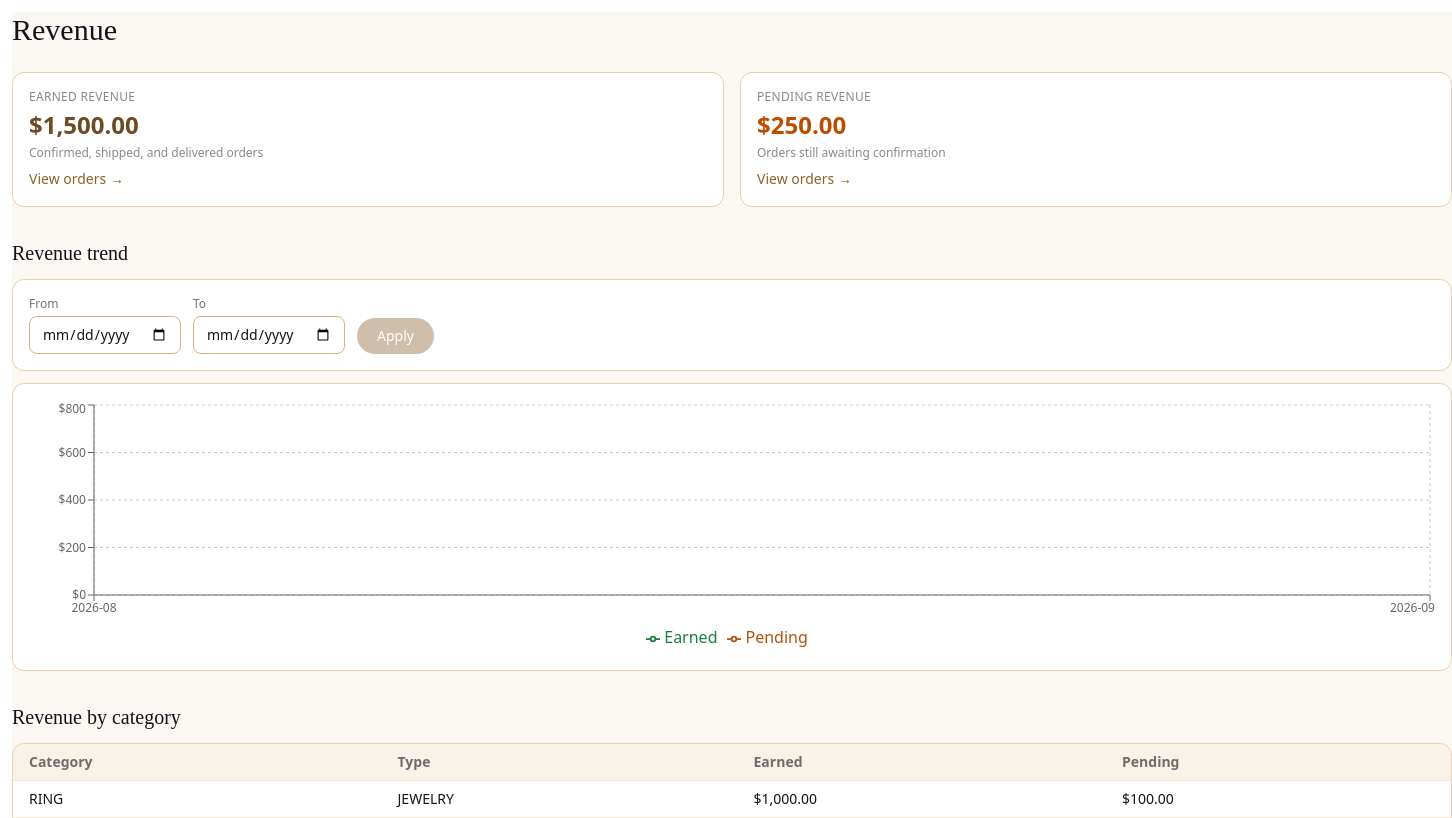
AdminRevenue › rejects an end date before the start date client-side, without fetching
The width and height of the screenshot is (1452, 818).
Expected: the text "Earned revenue" is shown, [29,88,135,105]
Step 1. Type "2024-03-31" into the date field named "from date" → [105, 335], box [29,316,181,354]
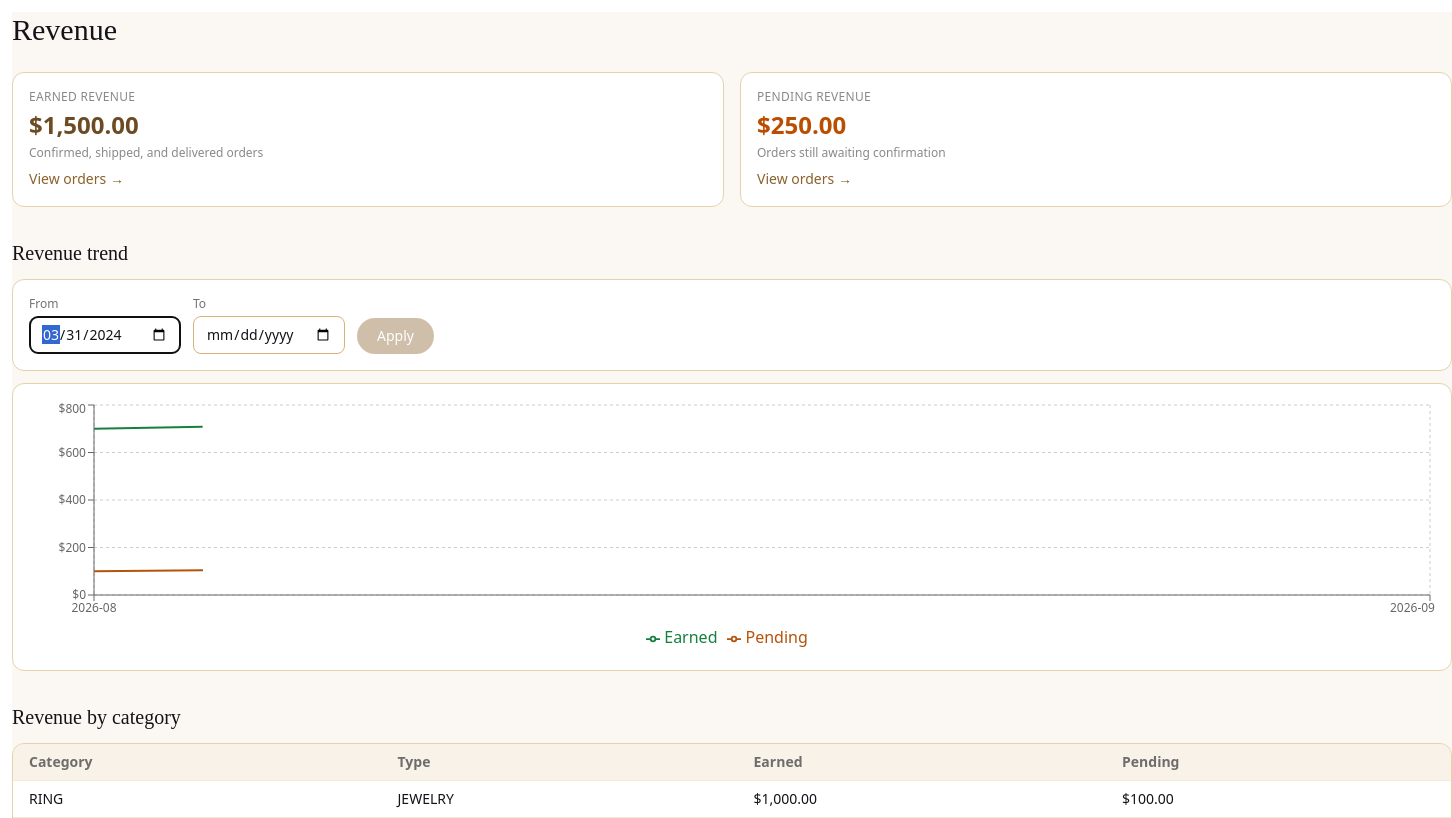
Step 2. Type "2024-03-01" into the date field named "to date" → [269, 335], box [193,316,345,354]
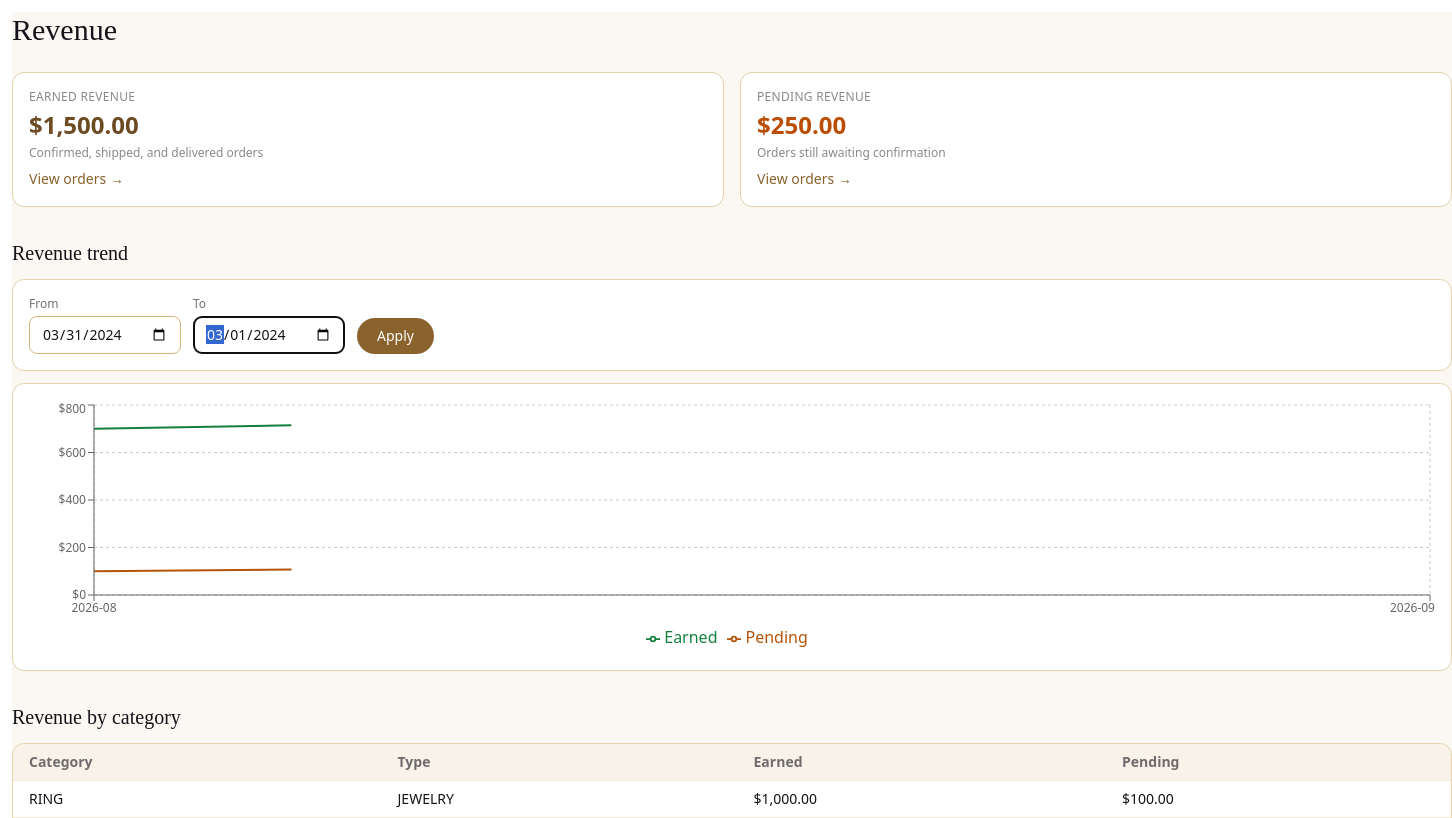
Step 3. Click the button "Apply" → [395, 336], box [357,318,434,354]
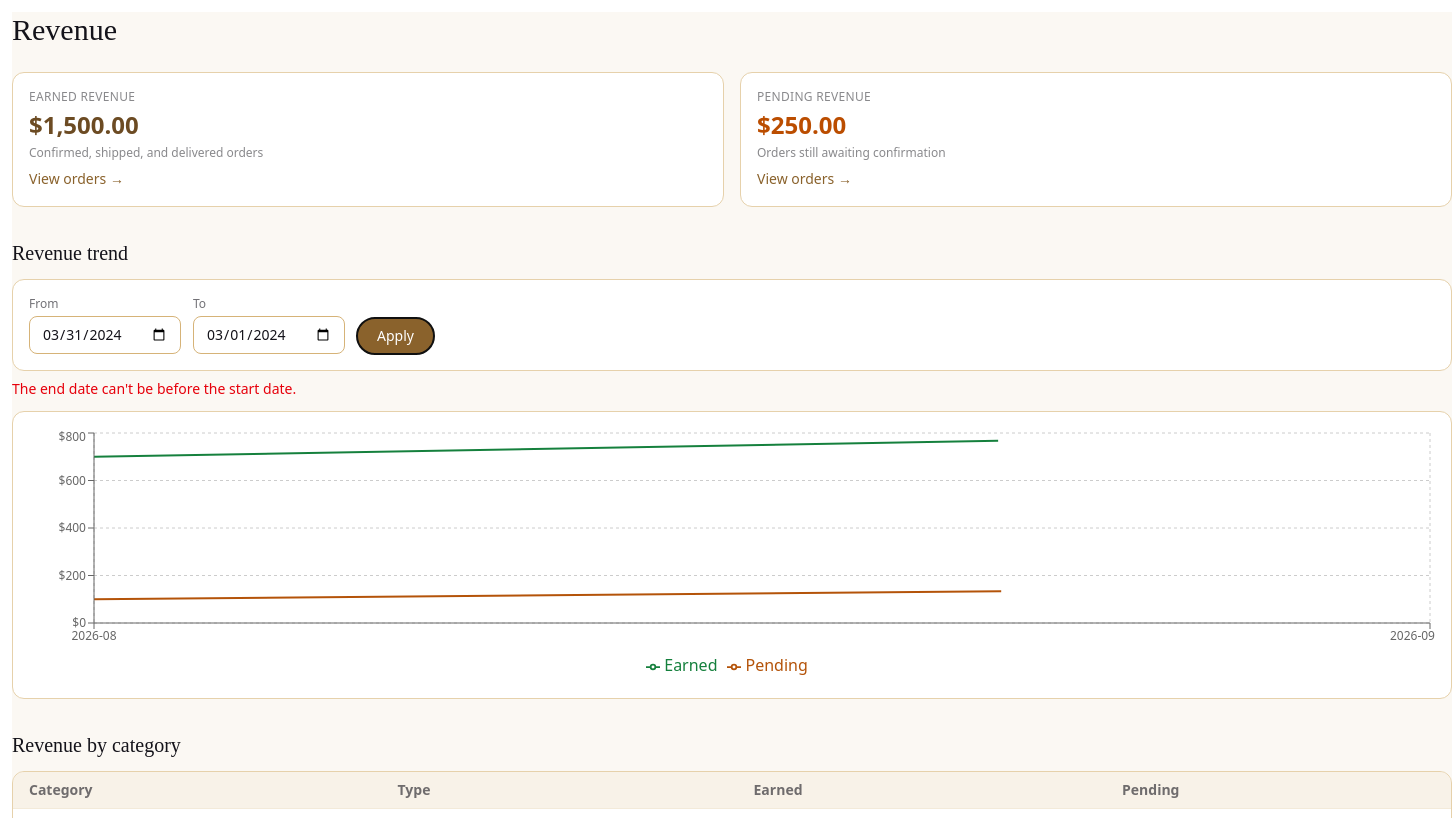
Result: the text "The end date can't be before the start date." is shown at [12,379,296,398]
